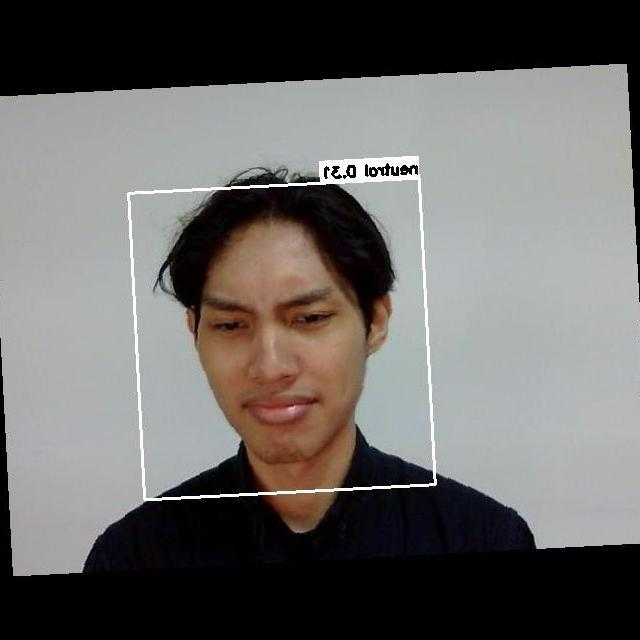Disgust: (178, 265, 379, 448)
